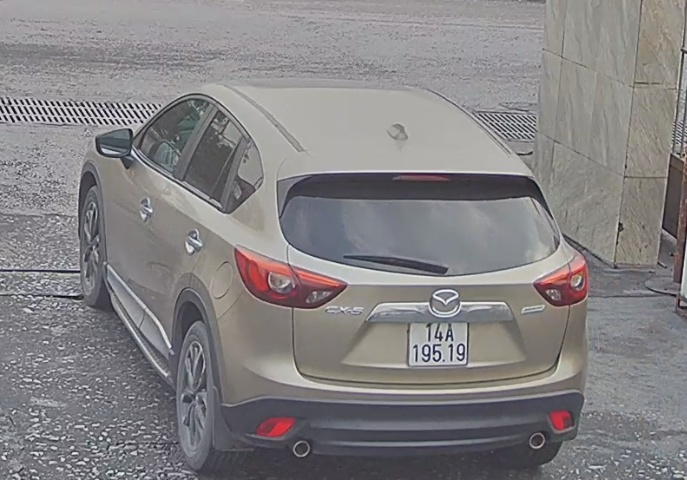vehicle plate: (405, 313, 475, 370)
